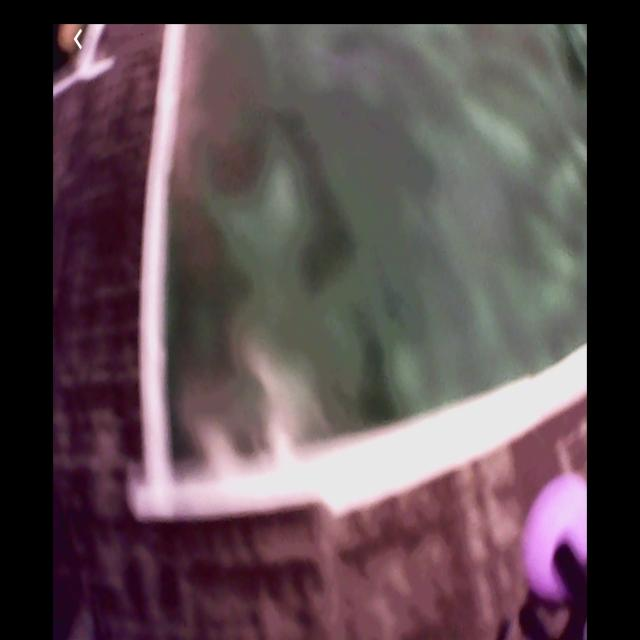ball: (520, 476, 587, 607)
